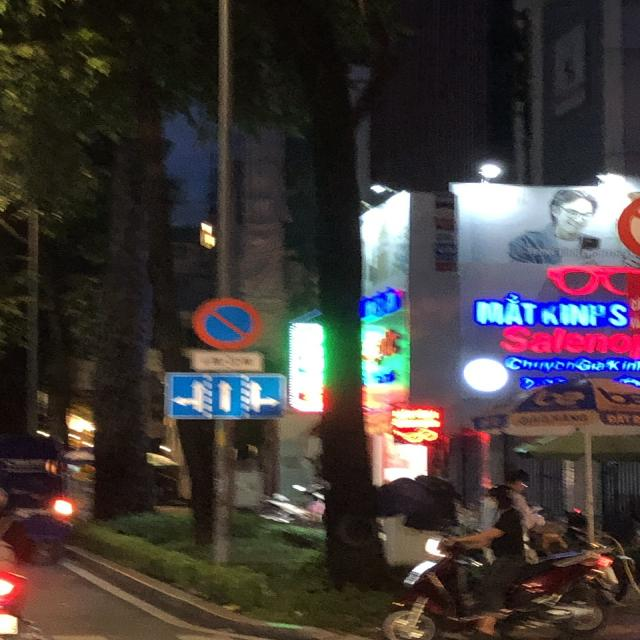Bien bao cam do xe: (188, 290, 265, 352)
